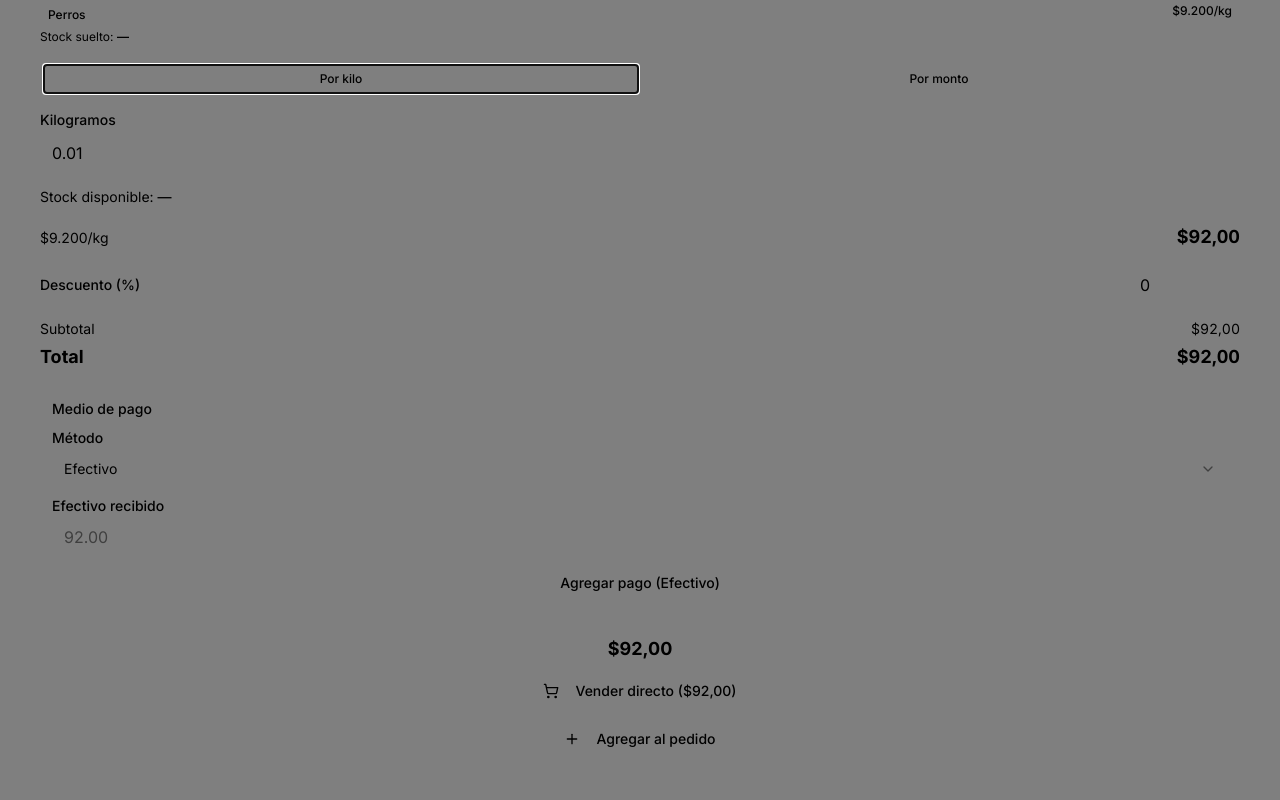
Test: PriceKgProductPanel — modal de venta suelta por celda › POR_PESO: preview total = qty × precio de la celda
Replace the text in the field labelled "Kilogramos" with "2" at (640, 153), box [40,135,1240,171]
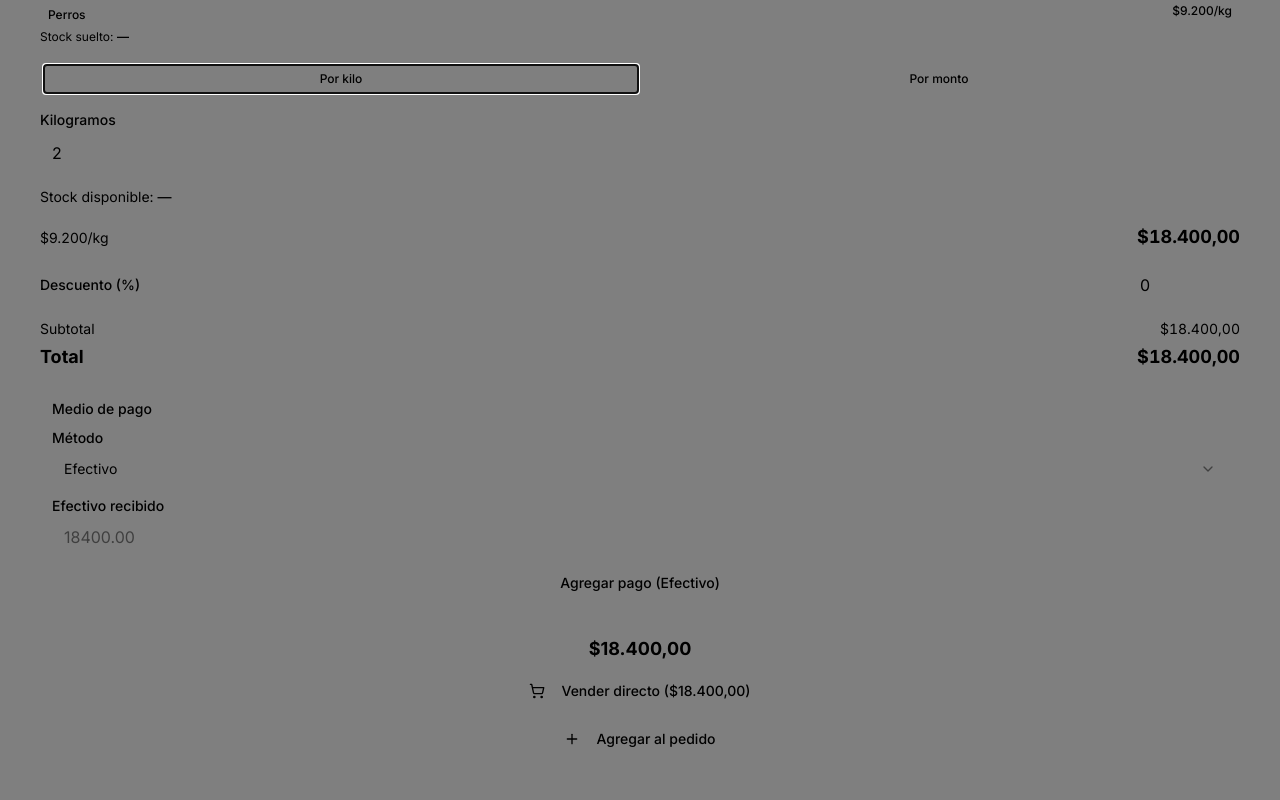
Check: the 1st text "$18.400,00" is shown, box [1137,223,1240,251]
